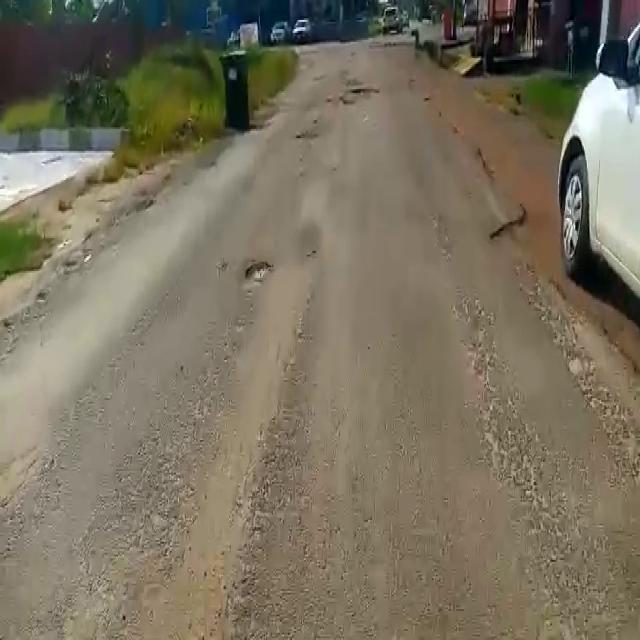pothole: (242, 257, 275, 287)
